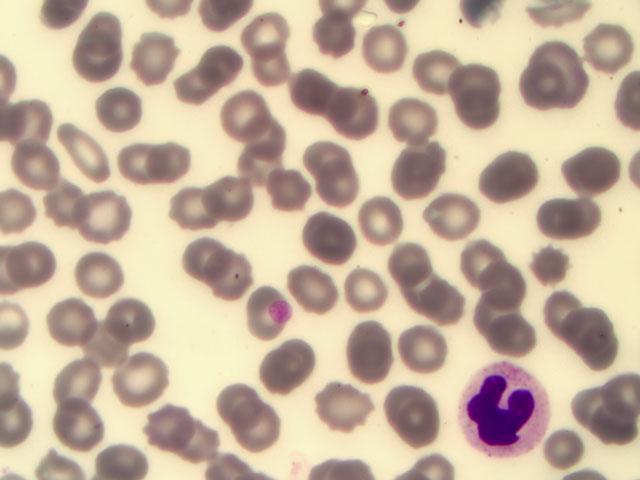Platelets: (271, 301, 290, 317)
RBC: (65, 42, 121, 95), (91, 82, 147, 135), (61, 126, 117, 179), (12, 140, 68, 193), (9, 92, 65, 145), (34, 175, 90, 228), (71, 185, 127, 238), (69, 252, 125, 305), (9, 239, 65, 292), (41, 289, 97, 342), (85, 321, 141, 374), (104, 295, 160, 348), (113, 351, 169, 404), (46, 355, 102, 408), (49, 400, 105, 453), (137, 402, 193, 455), (104, 427, 160, 480), (174, 417, 230, 470), (208, 379, 264, 432), (229, 404, 285, 457), (257, 342, 313, 395), (205, 255, 261, 308), (177, 232, 233, 285), (161, 182, 217, 235), (192, 172, 248, 225), (144, 133, 200, 186), (108, 138, 164, 191), (167, 71, 223, 124), (188, 42, 244, 95), (132, 31, 188, 84), (234, 4, 290, 57), (241, 42, 297, 95), (215, 92, 271, 145), (232, 111, 288, 164), (230, 142, 286, 195), (251, 159, 307, 212), (292, 126, 348, 179), (311, 162, 367, 215), (300, 217, 356, 270), (289, 255, 345, 308), (331, 260, 387, 313), (339, 336, 395, 389), (311, 379, 367, 432), (387, 391, 443, 444), (400, 318, 456, 371), (423, 281, 479, 334), (393, 265, 449, 318), (378, 240, 434, 293), (361, 201, 417, 254), (389, 148, 445, 201), (382, 93, 438, 146), (335, 85, 391, 138), (292, 67, 348, 120), (350, 25, 406, 78), (307, 11, 363, 64), (408, 40, 464, 93), (448, 49, 504, 102), (454, 89, 510, 142), (474, 152, 530, 205), (427, 187, 483, 240), (451, 229, 507, 282), (472, 263, 528, 316), (484, 309, 540, 362), (538, 287, 594, 340), (563, 308, 619, 361), (531, 244, 587, 297), (524, 191, 580, 244), (558, 194, 614, 247), (566, 143, 622, 196), (519, 59, 575, 112), (534, 41, 590, 94), (577, 20, 633, 73), (537, 420, 593, 473), (78, 13, 127, 54), (31, 1, 88, 30)
WBC: (453, 360, 553, 461)
